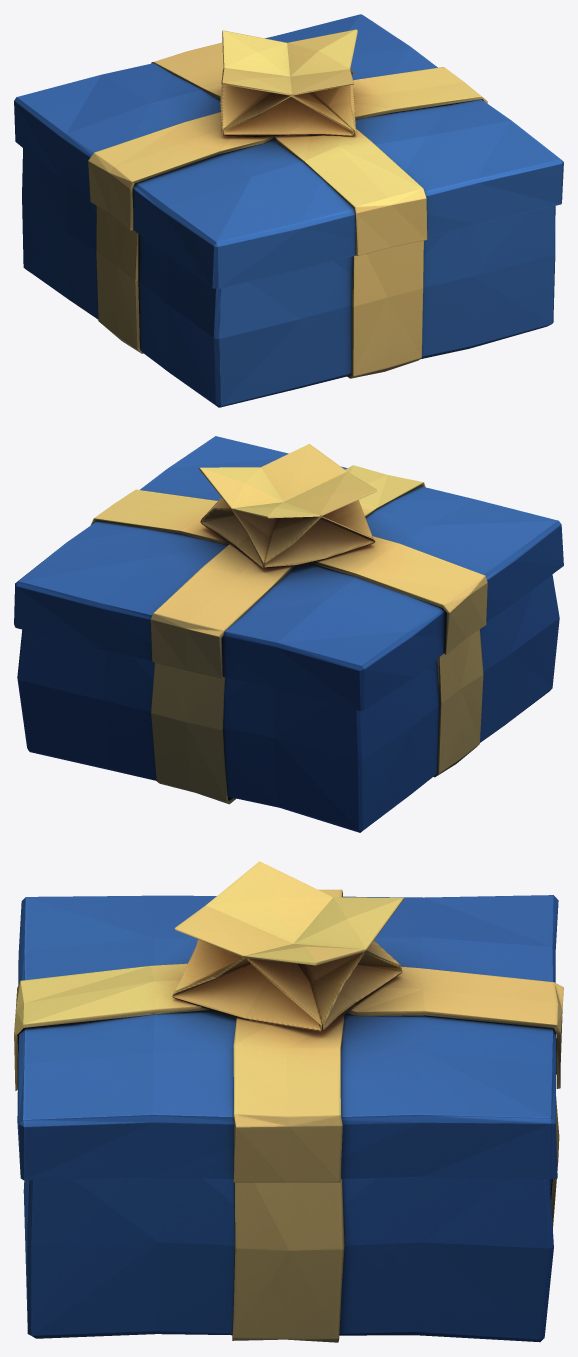
Rendered from GIFT.FBX.
The picture shows the model from 3 angles, top to bottom: view 1: azimuth 30°, elevation 25°; view 2: azimuth 150°, elevation 25°; view 3: azimuth 270°, elevation 25°; orthographic projection. The views are drawn at different scales.
Visible parts, largest first — view 1: GIFT_Cover, GIFT_Body; view 2: GIFT_Cover, GIFT_Body; view 3: GIFT_Cover, GIFT_Body.
Boxes of the visible parts, x1,y1,x2,y2 form: GIFT_Cover: [14, 14, 563, 288]; GIFT_Body: [22, 148, 555, 407]; GIFT_Cover: [14, 436, 563, 710]; GIFT_Body: [17, 574, 559, 832]; GIFT_Cover: [14, 861, 563, 1182]; GIFT_Body: [23, 1097, 559, 1342].
Bounding box in the file's own units: 25.69 × 16.89 × 25.54.
